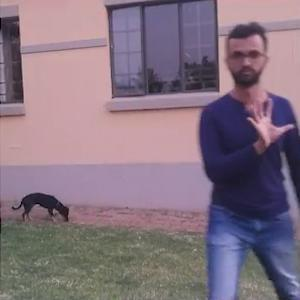follow_hand: (241, 92, 294, 149)
